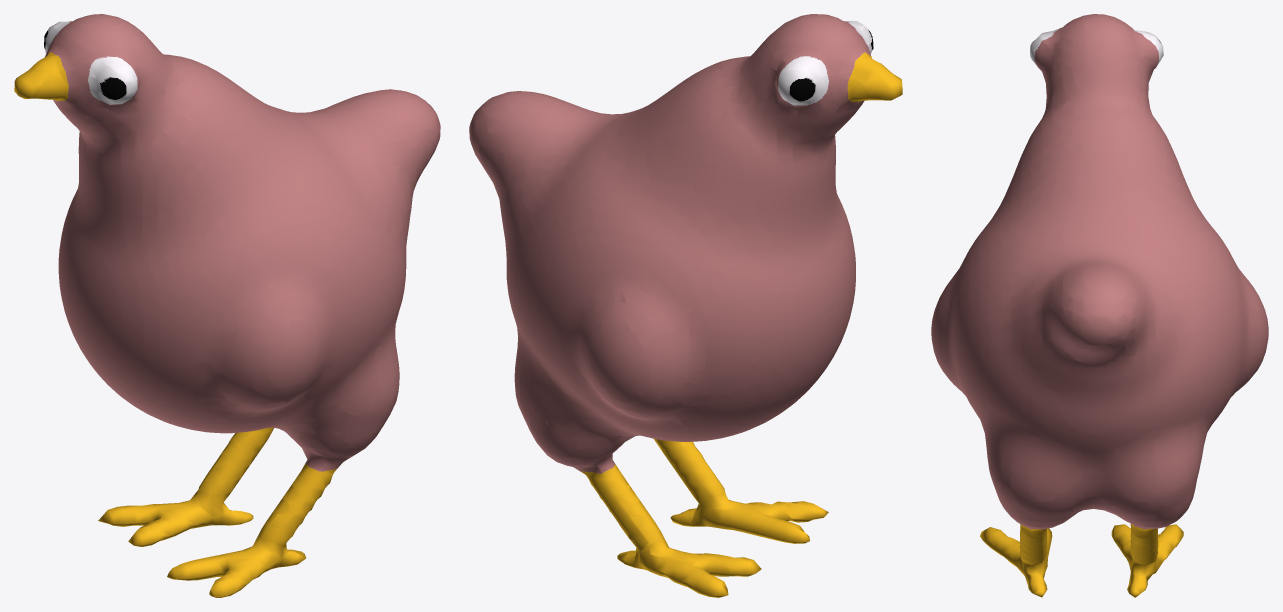
Rendered from chookity.obj.
3 renders of one model, left to right at view 1: azimuth 30°, elevation 25°; view 2: azimuth 150°, elevation 25°; view 3: azimuth 270°, elevation 25°, orthographic. The views are drawn at different scales.
Parts seen in each view (by area): view 1: Mball.028_Mesh; view 2: Mball.028_Mesh; view 3: Mball.028_Mesh.
Part boxes in pixels (<box>): Mball.028_Mesh: <box>14,14,440,597</box>; Mball.028_Mesh: <box>469,14,902,597</box>; Mball.028_Mesh: <box>931,14,1268,597</box>.
Size of the model in its own units: 3.76 by 4.81 by 2.91.
